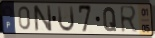0: (17, 5, 33, 32)
7: (77, 4, 93, 35)
N: (32, 4, 54, 34)
Q: (102, 6, 118, 33)
R: (118, 5, 139, 36)
U: (56, 5, 76, 33)
